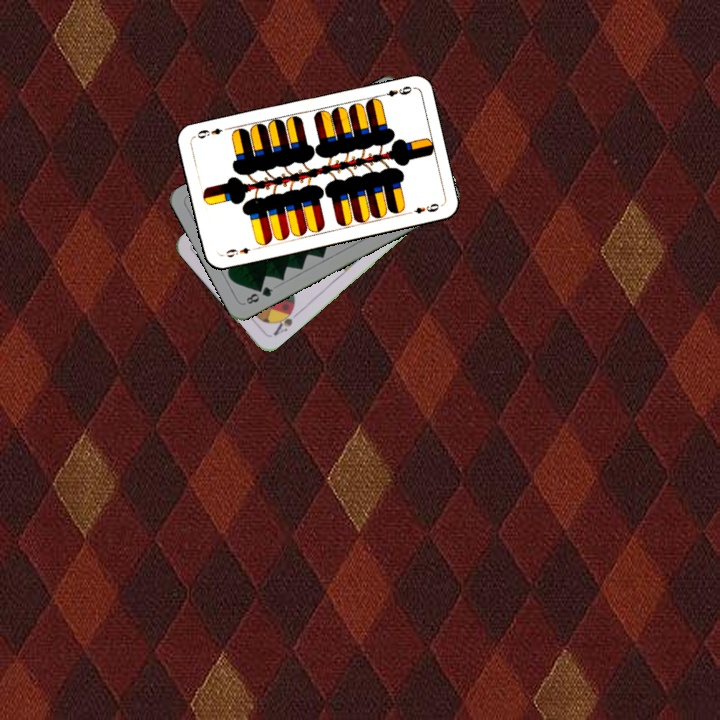E9: (375, 82, 414, 100), (218, 243, 259, 260)
G8: (242, 282, 276, 307)
SA: (269, 304, 301, 338)
